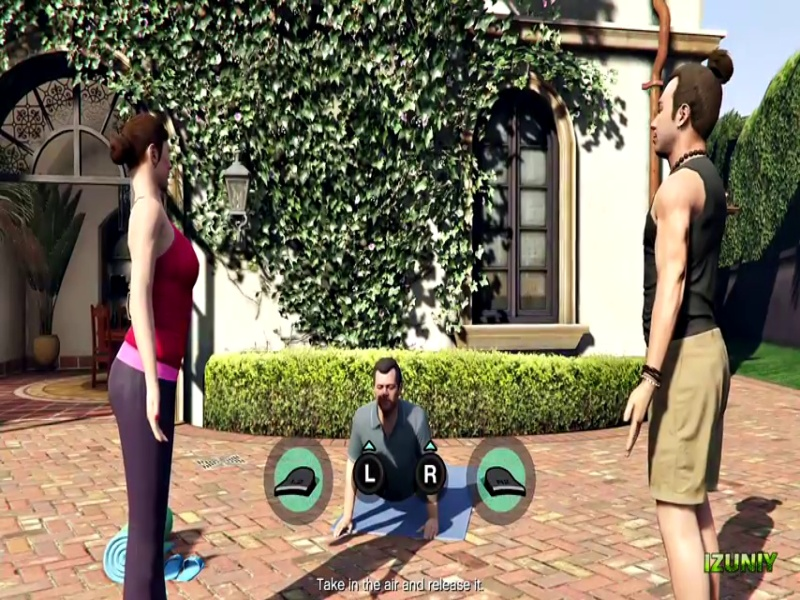licenseplate: (445, 348, 543, 354)
